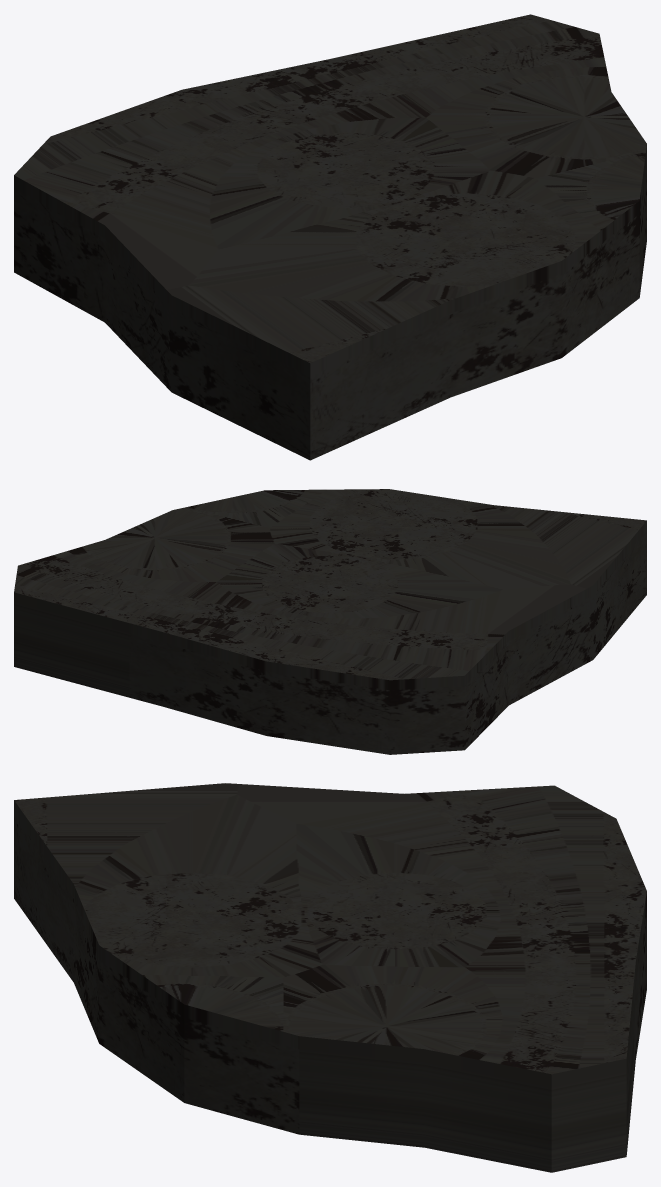
File: Rubble09.FBX
3 views of the same model, one above another, from view 1: azimuth 30°, elevation 25°; view 2: azimuth 150°, elevation 25°; view 3: azimuth 270°, elevation 25° (orthographic). The views are drawn at different scales.
Visible parts, largest first — view 1: Plane044; view 2: Plane044; view 3: Plane044.
Boxes of the visible parts, x1,y1,x2,y2 form: Plane044: (14, 14, 646, 460); Plane044: (14, 489, 646, 754); Plane044: (14, 783, 646, 1172).
Bounding box in the file's own units: 7260 × 1145 × 6670.
